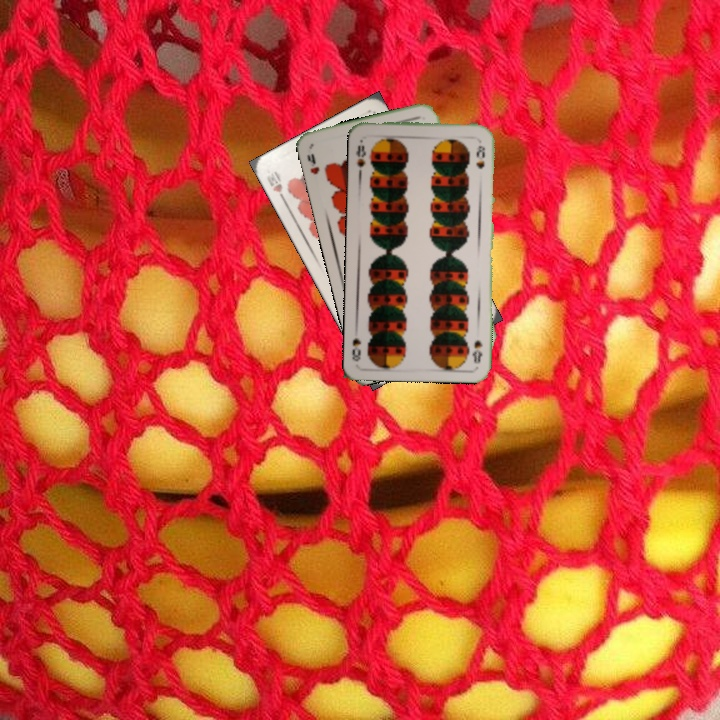H10: (262, 167, 289, 205)
H9: (303, 149, 322, 177)
S8: (352, 141, 368, 175), (468, 336, 485, 366)
